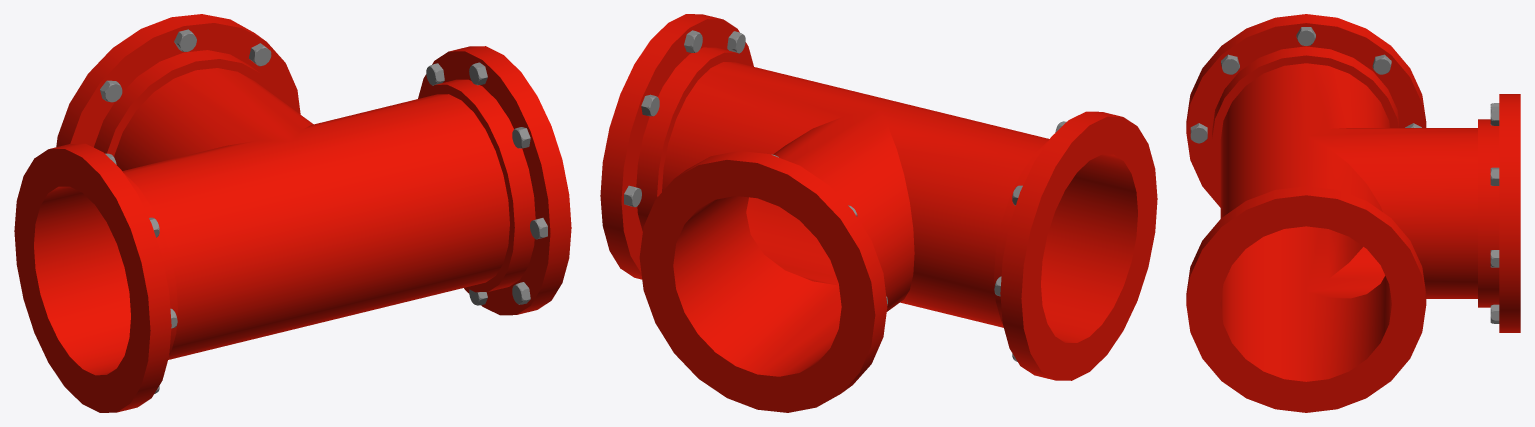
Rendered from Pipe_200_T.fbx.
3 renders of one model, left to right at view 1: azimuth 30°, elevation 25°; view 2: azimuth 150°, elevation 25°; view 3: azimuth 270°, elevation 25°, orthographic. The views are drawn at different scales.
Parts seen in each view (by area): view 1: Pipe_200_T; view 2: Pipe_200_T; view 3: Pipe_200_T.
Boxes of the visible parts, x1=… form: Pipe_200_T: x1=14, y1=14, x2=571, y2=412; Pipe_200_T: x1=600, y1=14, x2=1157, y2=412; Pipe_200_T: x1=1186, y1=14, x2=1520, y2=412.
Size of the model in its own units: 0.5 by 0.28 by 0.39.
